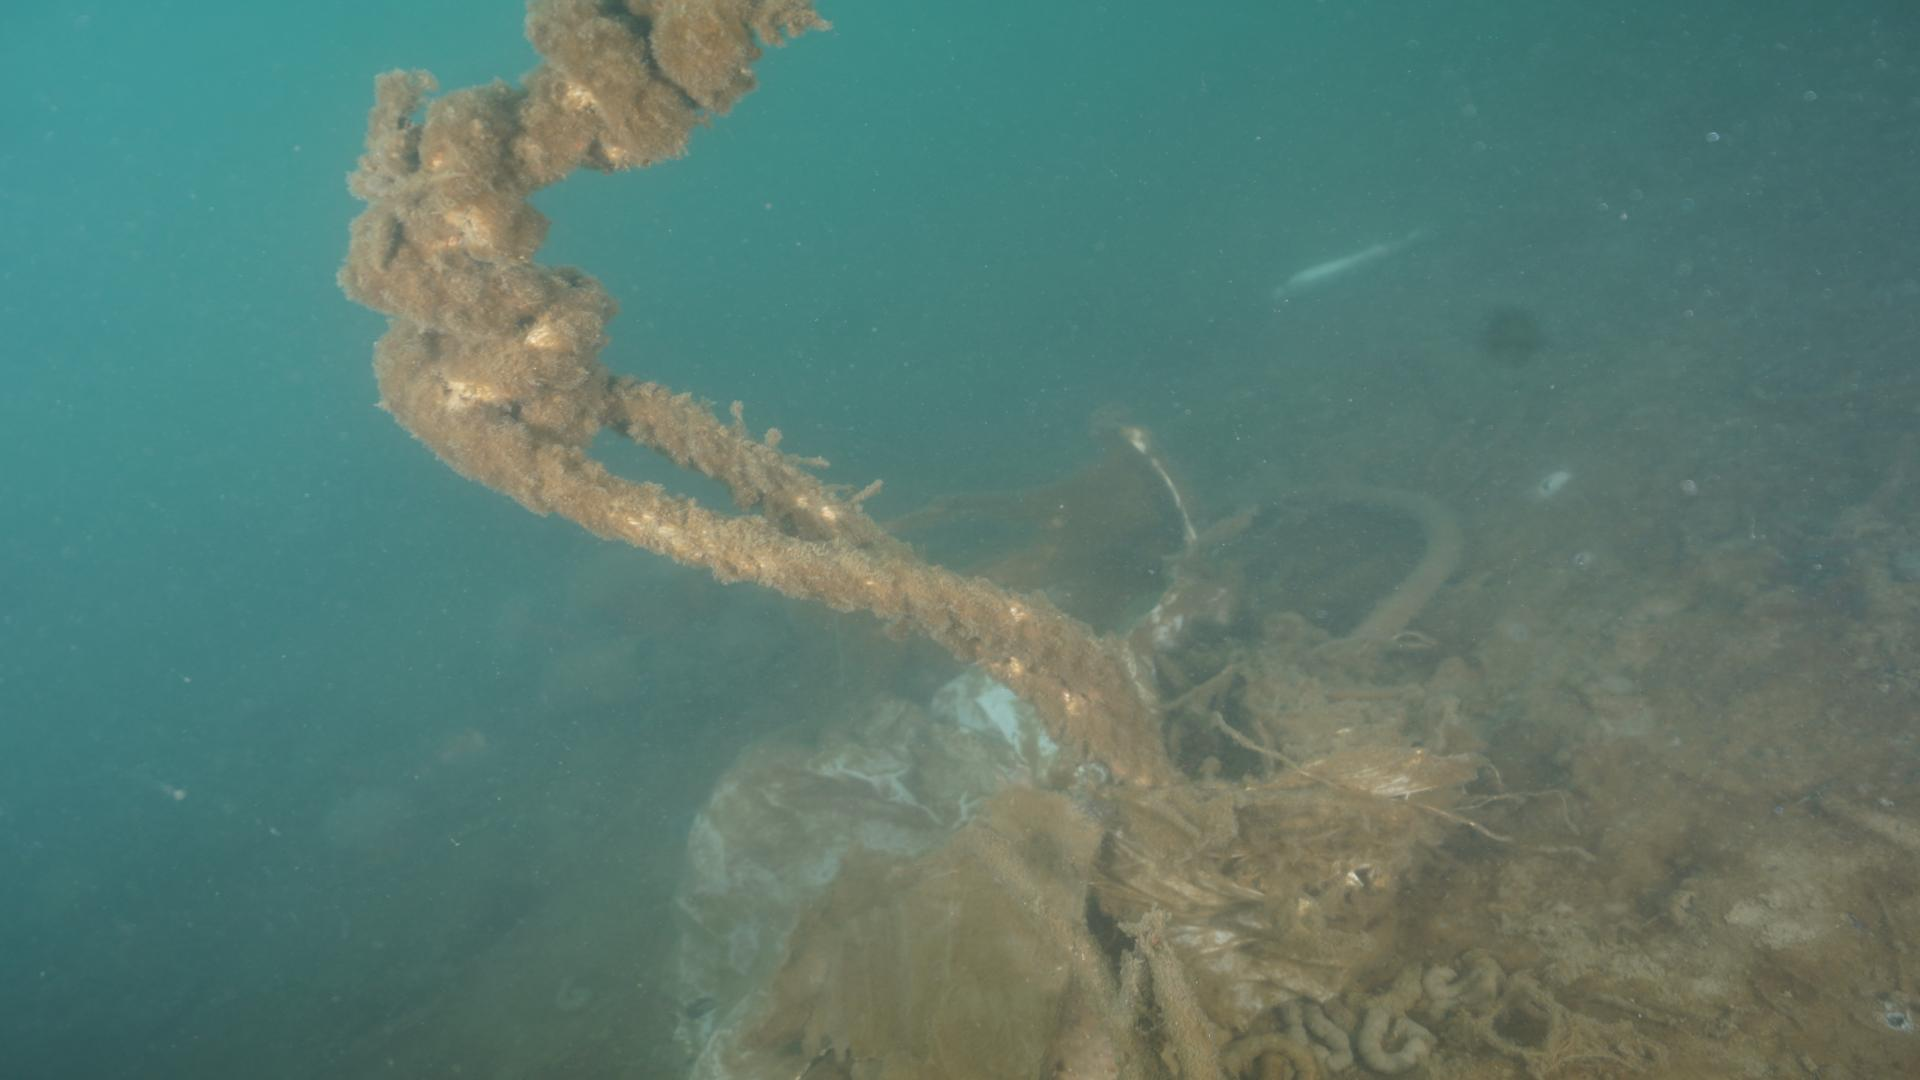bundle of ropes: (338, 0, 1167, 773)
rope: (1313, 473, 1466, 640)
